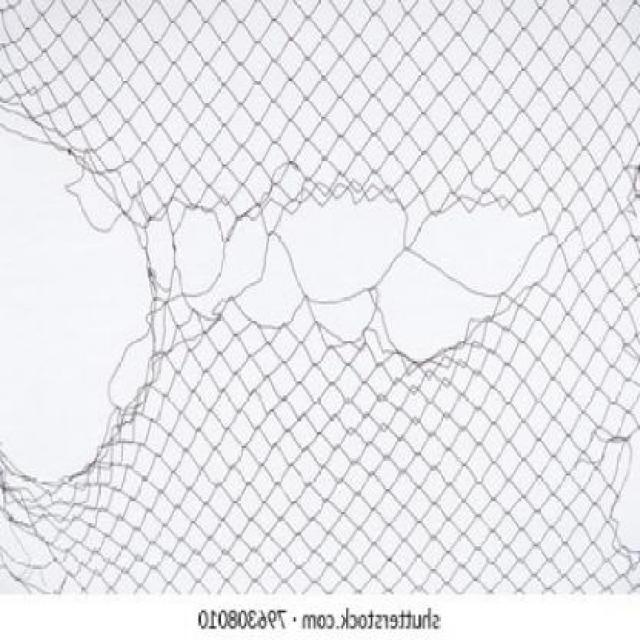fence line: (6, 96, 151, 493), (169, 194, 546, 340)
